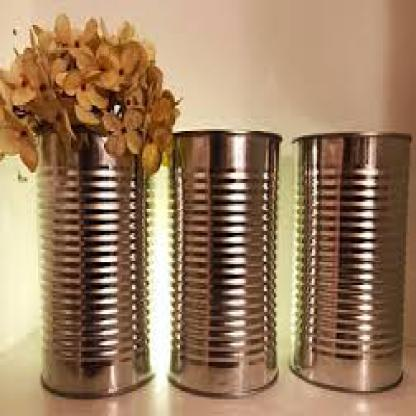Compsot: (35, 116, 154, 400), (287, 131, 411, 395), (167, 125, 277, 397)
